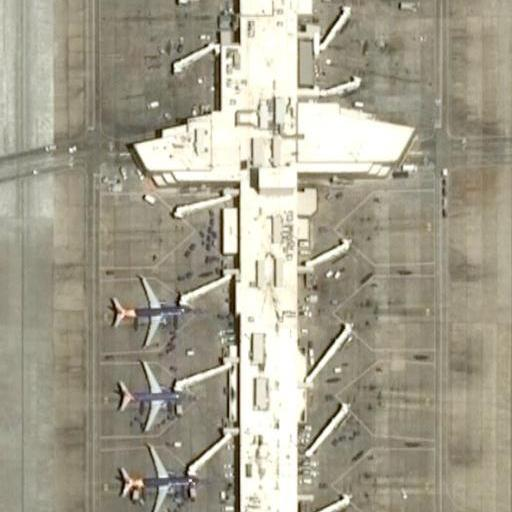Aircraft: (104, 265, 188, 351), (110, 351, 192, 431), (115, 440, 199, 512)
